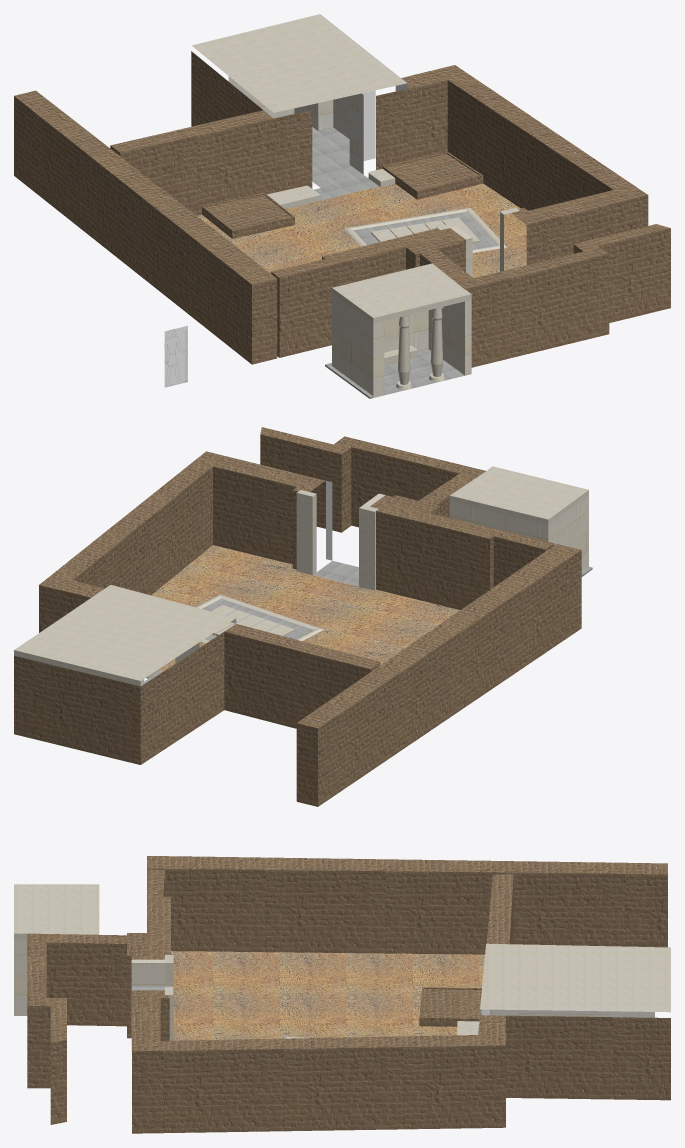
The model's file is Anonymous_Dyn19_chapel.glb.
3 views of the same model, one above another, from view 1: azimuth 30°, elevation 25°; view 2: azimuth 150°, elevation 25°; view 3: azimuth 270°, elevation 25° (orthographic). The views are drawn at different scales.
Visible parts, largest first — view 1: Mesh1 Model, Mesh3 Model; view 2: Mesh1 Model; view 3: Mesh1 Model.
Boxes of the visible parts, x1=… form: Mesh1 Model: x1=14, y1=14, x2=670, y2=398; Mesh3 Model: x1=164, y1=325, x2=187, y2=387; Mesh1 Model: x1=14, y1=427, x2=592, y2=806; Mesh1 Model: x1=14, y1=856, x2=670, y2=1133.
Bounding box in the file's own units: 14.22 × 2.45 × 16.42.
Materials: 9 (8 with a texture image).
